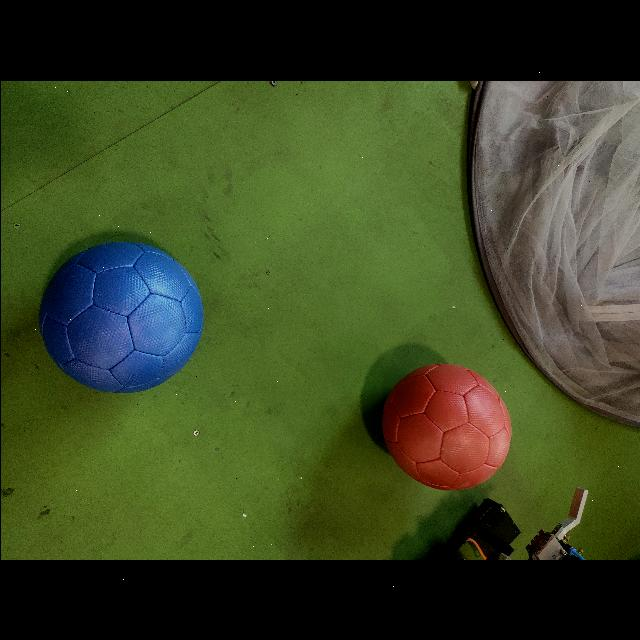B: (38, 240, 204, 394)
R: (378, 364, 510, 492)
